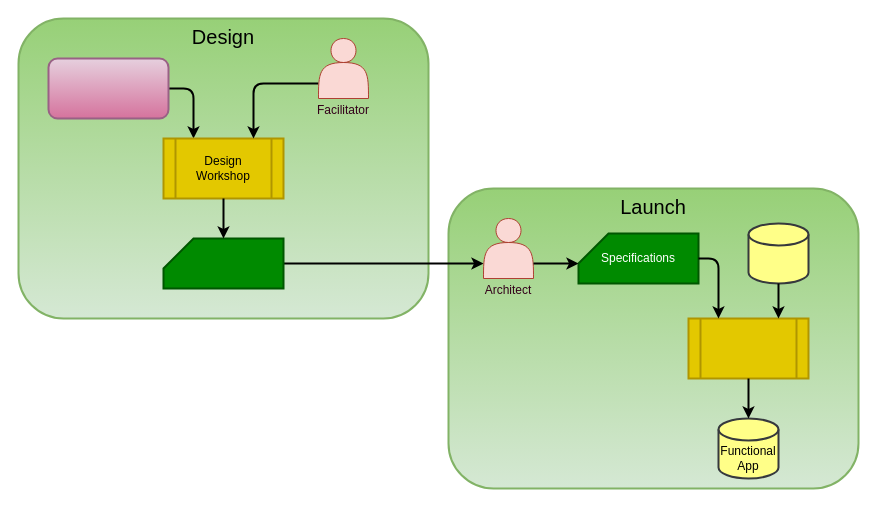
Image size: 876x506. Some labels were removed from this diagram. The shapes that lost their labels are listed below. From the top down, each one's box as (x1, y1, x2, y2) in pixels, then its label:
(47, 57, 169, 119): Engineering Team
(162, 237, 284, 289): Observations
(747, 222, 809, 284): Templates
(687, 317, 809, 379): Merge
